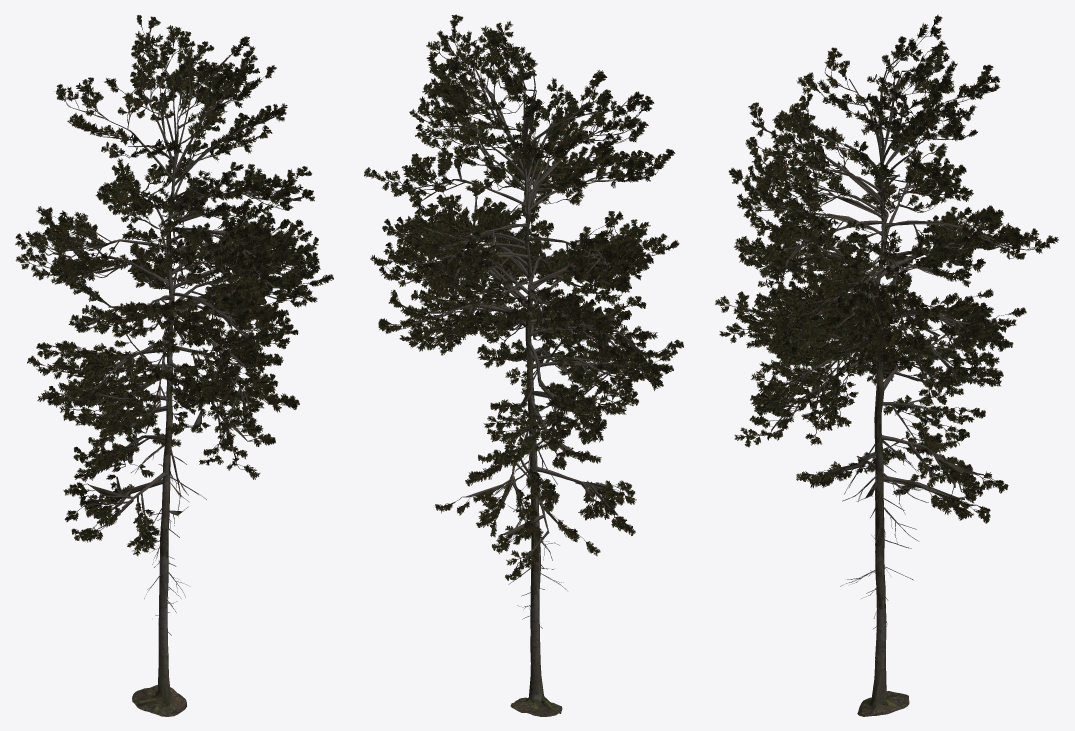
File: pine_tree_01_c_LOD1.glb
The picture shows the model from 3 angles, left to right: view 1: azimuth 30°, elevation 25°; view 2: azimuth 150°, elevation 25°; view 3: azimuth 270°, elevation 25°; orthographic projection. The views are drawn at different scales.
Parts seen in each view (by area): view 1: pine_tree_01_c_LOD1__lod2, pine_tree_01_c_LOD1__lod1; view 2: pine_tree_01_c_LOD1__lod2, pine_tree_01_c_LOD1__lod1; view 3: pine_tree_01_c_LOD1__lod2, pine_tree_01_c_LOD1__lod1.
Part boxes in pixels (<box>): pine_tree_01_c_LOD1__lod2: <box>15,15,333,716</box>; pine_tree_01_c_LOD1__lod1: <box>15,15,333,716</box>; pine_tree_01_c_LOD1__lod2: <box>364,14,683,716</box>; pine_tree_01_c_LOD1__lod1: <box>364,16,683,716</box>; pine_tree_01_c_LOD1__lod2: <box>715,14,1058,716</box>; pine_tree_01_c_LOD1__lod1: <box>715,16,1058,716</box>.
Size of the model in its own units: 7.62 by 17.57 by 7.89.
Materials: 3 (3 with a texture image).
